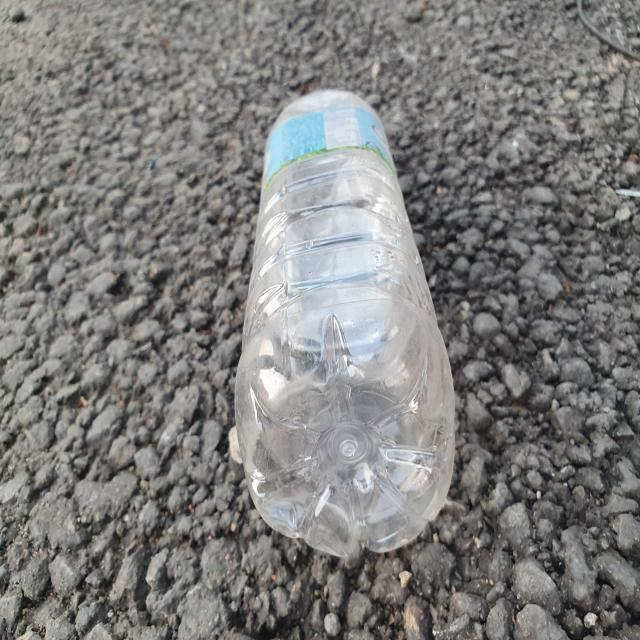plastic: (235, 89, 455, 558)
